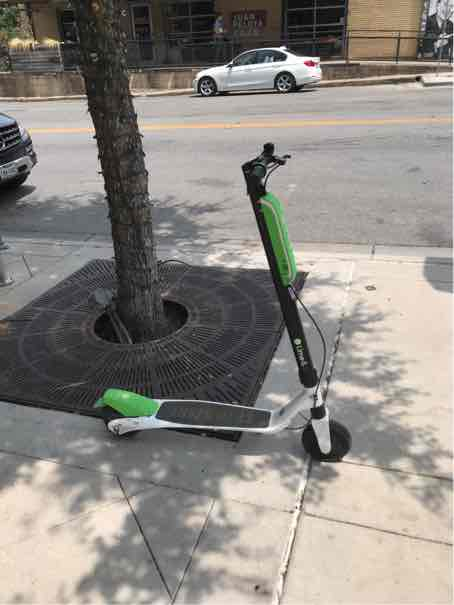scooter: (81, 131, 343, 465)
